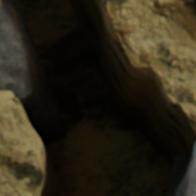brick: (0, 4, 24, 91)
broken_brick: (177, 143, 195, 195)
crack: (0, 0, 194, 195)
